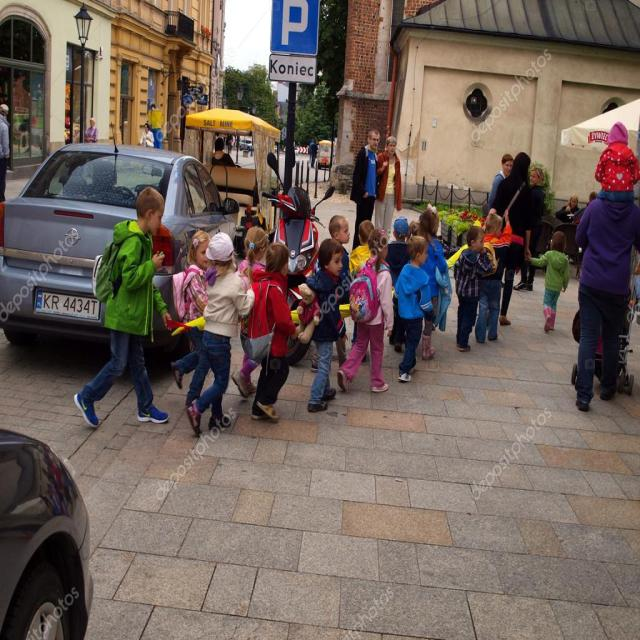body: (72, 184, 174, 428), (183, 230, 256, 438), (573, 198, 639, 414), (239, 238, 298, 422), (292, 237, 349, 414), (336, 225, 395, 395), (404, 200, 453, 362), (491, 150, 532, 328), (309, 214, 354, 374), (230, 225, 270, 401), (169, 228, 211, 391), (391, 232, 435, 382), (472, 206, 514, 345), (453, 224, 493, 354), (524, 229, 571, 334), (382, 214, 414, 354), (513, 165, 545, 293), (348, 218, 376, 362), (348, 128, 380, 254), (594, 120, 640, 202), (40, 441, 80, 520), (374, 135, 402, 244), (13, 77, 35, 151), (488, 152, 514, 212), (0, 102, 11, 204), (572, 191, 598, 226), (554, 192, 581, 224), (211, 136, 236, 166), (210, 132, 239, 156), (84, 117, 100, 143), (139, 123, 155, 149), (408, 218, 422, 238), (310, 138, 318, 170), (148, 100, 161, 118), (308, 138, 312, 164)
